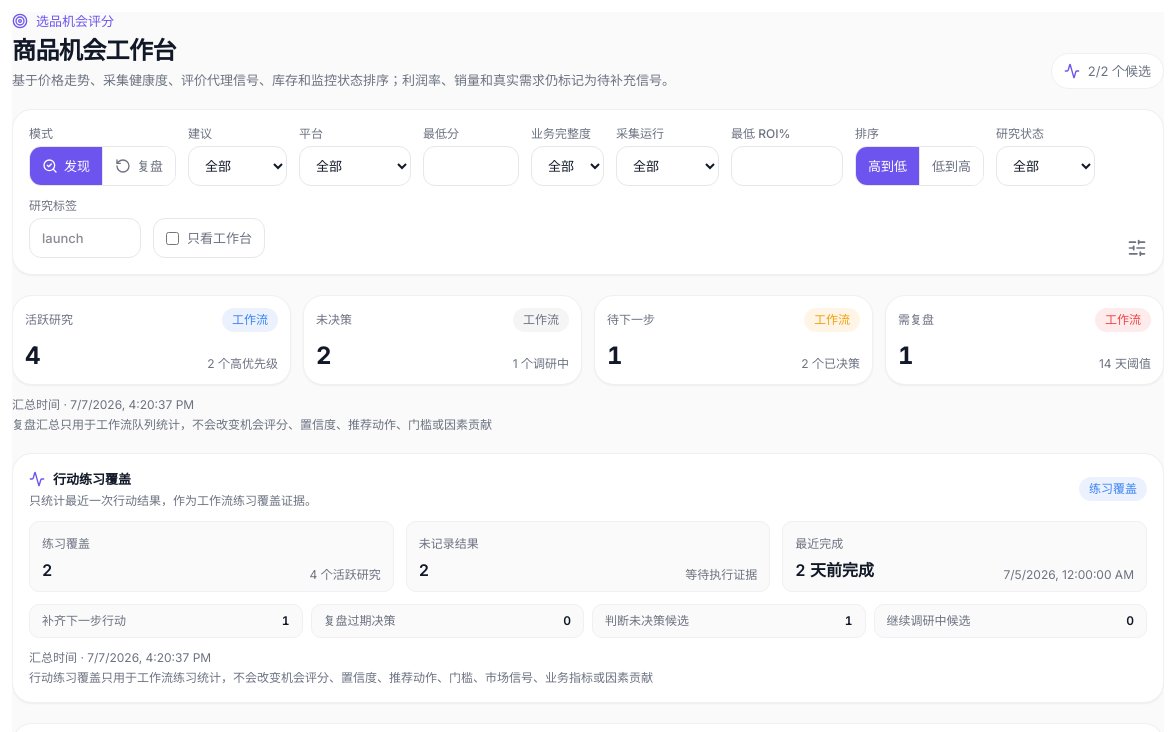
Test: Opportunities page › does not mark practice summary controls active for narrowed views
The width and height of the screenshot is (1176, 732).
Click the button with aria-label "筛选未记录行动结果".
click(449, 543)  # box [406,521,770,592]
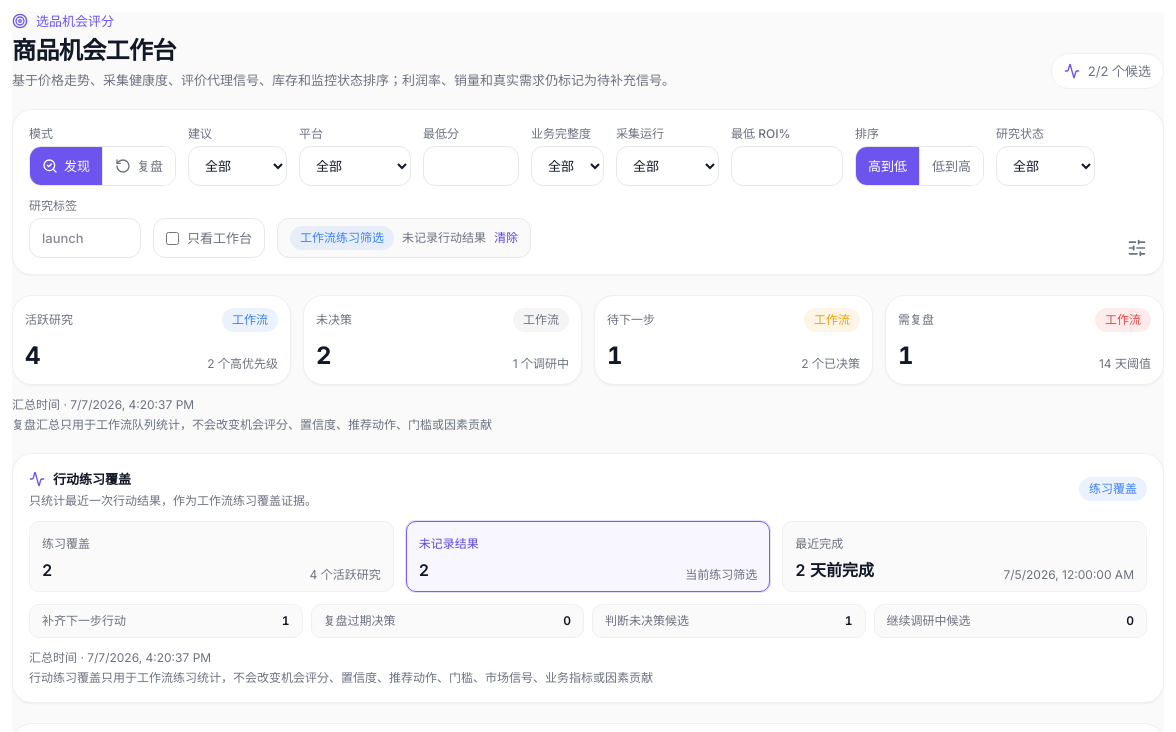
Expected: the button with aria-label "筛选未记录行动结果" is pressed, [406,521,770,592]
Click the checkbox named "只看研究工作台".
click(172, 238)  # box [166,232,179,245]
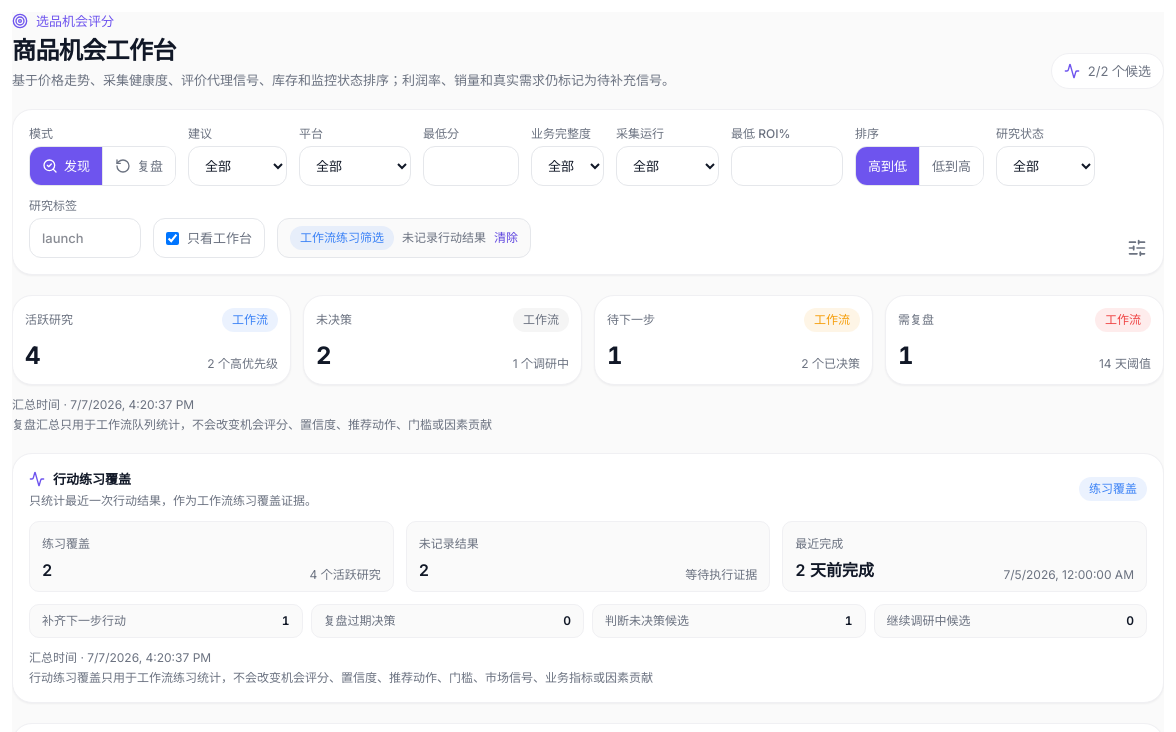
Expected: the button "当前练习筛选" is gone
